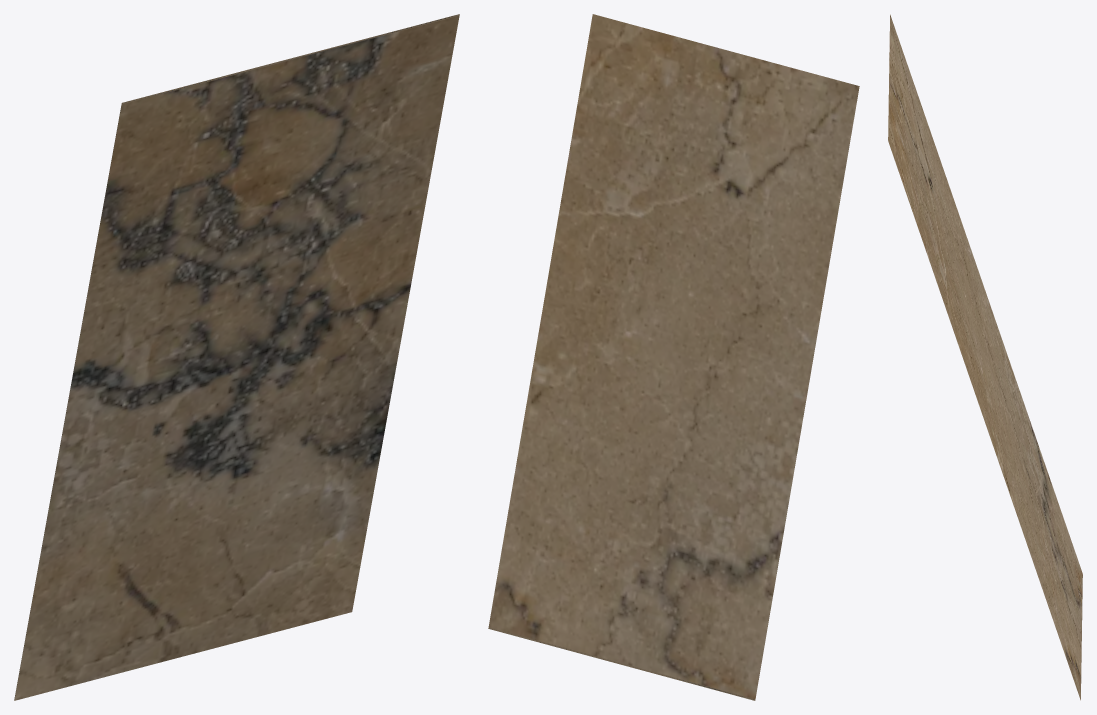
Rendered from batik.glb.
3 views of the same model, side by side, from view 1: azimuth 30°, elevation 25°; view 2: azimuth 150°, elevation 25°; view 3: azimuth 270°, elevation 25° (orthographic). The views are drawn at different scales.
Visible parts, largest first — view 1: Cube.002; view 2: Cube.002; view 3: Cube.002.
Part boxes in pixels (x1=…): Cube.002: x1=14, y1=14, x2=459, y2=700; Cube.002: x1=488, y1=14, x2=859, y2=700; Cube.002: x1=888, y1=14, x2=1082, y2=700.
Size of the model in its own units: 1.2 by 2.29 by 0.7192.
Materials: 1 (1 with a texture image).
